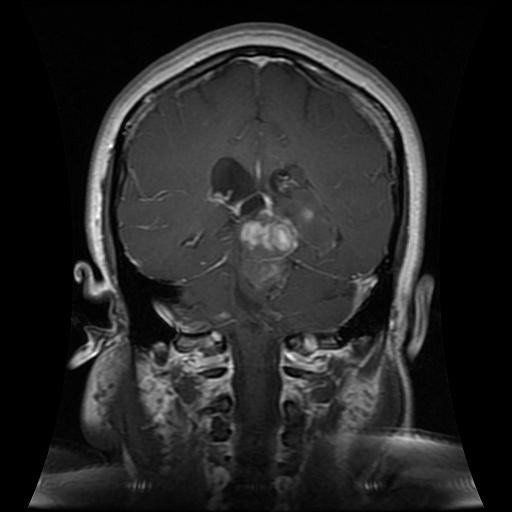glioma: (233, 162, 338, 303)
